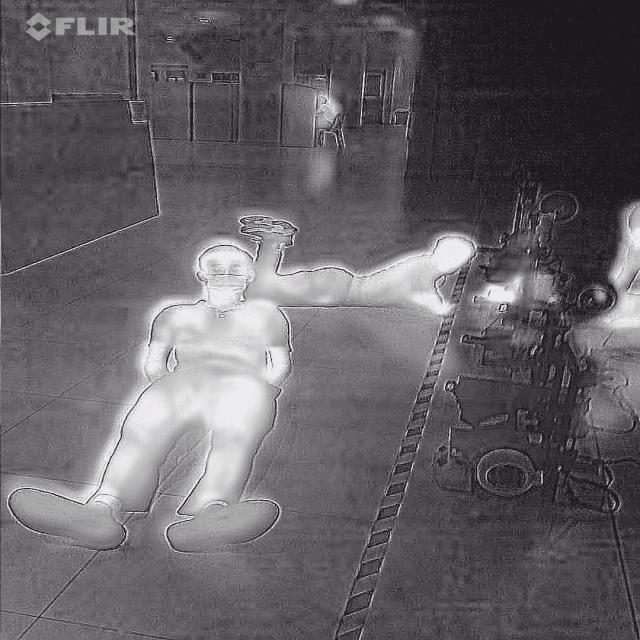Victim: (5, 240, 304, 564), (216, 211, 490, 313), (587, 194, 639, 340)
